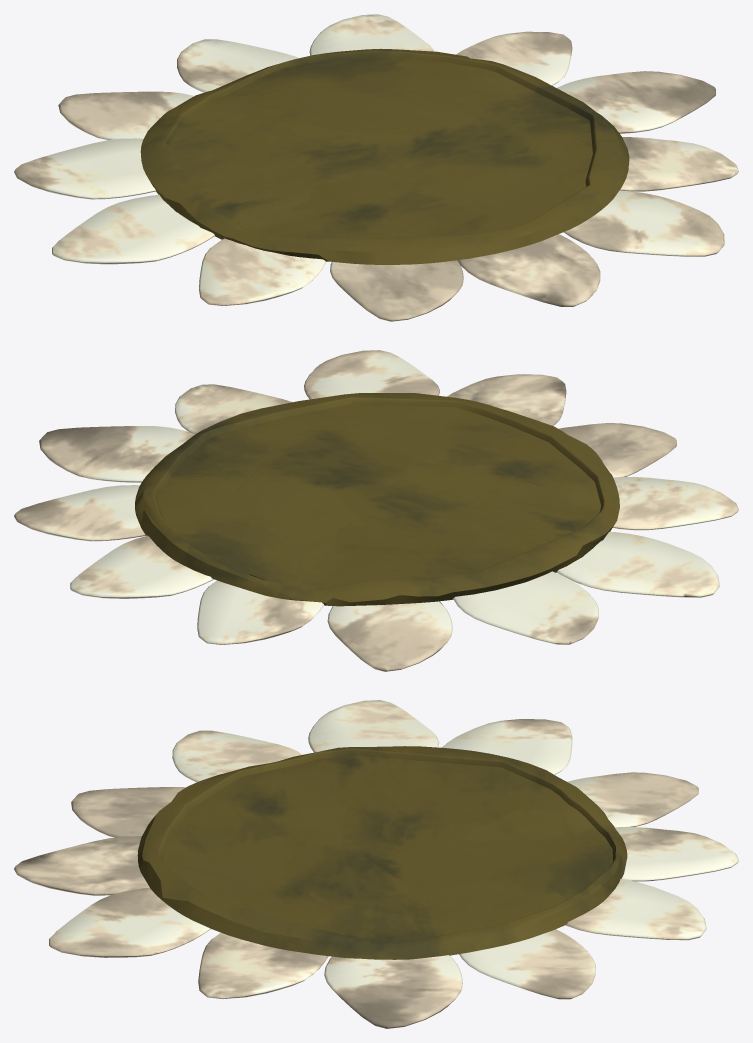
Rendered from DrifterDead.fbx.
3 views of the same model, one above another, from view 1: azimuth 30°, elevation 25°; view 2: azimuth 150°, elevation 25°; view 3: azimuth 270°, elevation 25° (orthographic).
Parts seen in each view (by area): view 1: Drifter; view 2: Drifter; view 3: Drifter.
Boxes of the visible parts, box(x1,y1,x2,y2) form: Drifter: box(14, 14, 738, 321); Drifter: box(14, 350, 738, 671); Drifter: box(14, 700, 738, 1028).
Size of the model in its own units: 731 by 31.01 by 686.
Materials: 1 (1 with a texture image).
